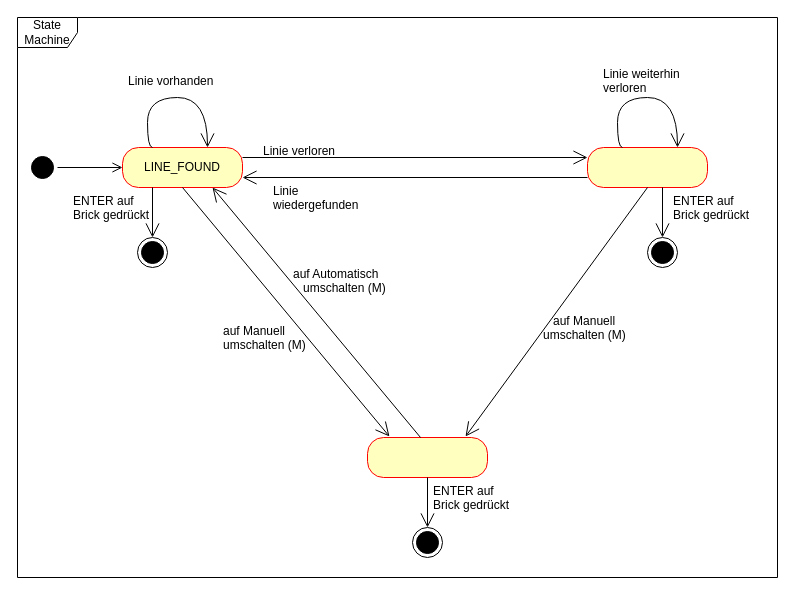
Some shapes in this 795 by 595 pixel diagram are drawn without their labels. Each missing label, with the box of its shape:
LINE_LOST: (586, 146, 708, 188)
USER_CTRL: (366, 436, 488, 478)
